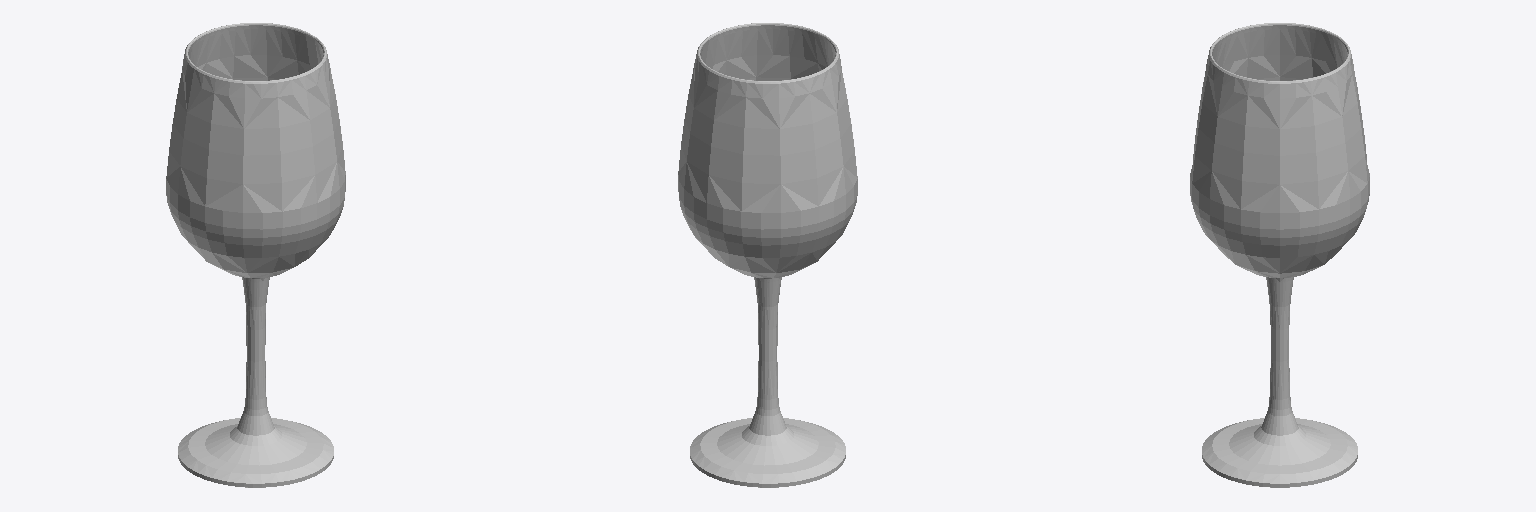
Rendered from glass.obj.
The picture shows the model from 3 angles: view 1: azimuth 30°, elevation 25°; view 2: azimuth 150°, elevation 25°; view 3: azimuth 270°, elevation 25°; orthographic projection.
Parts seen in each view (by area): view 1: glass:nurbsToPoly1 glass1; view 2: glass:nurbsToPoly1 glass1; view 3: glass:nurbsToPoly1 glass1.
Boxes of the visible parts, x1=… form: glass:nurbsToPoly1 glass1: x1=166, y1=23, x2=345, y2=487; glass:nurbsToPoly1 glass1: x1=678, y1=23, x2=857, y2=487; glass:nurbsToPoly1 glass1: x1=1190, y1=23, x2=1369, y2=487.
Size of the model in its own units: 0.2447 by 0.611 by 0.2447.